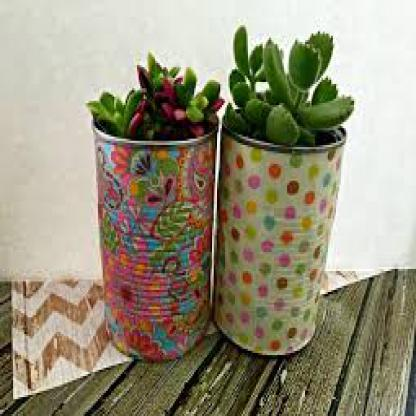Compsot: (210, 105, 346, 357), (88, 110, 219, 360)
Dgrx: (226, 23, 352, 141), (85, 50, 220, 132)
